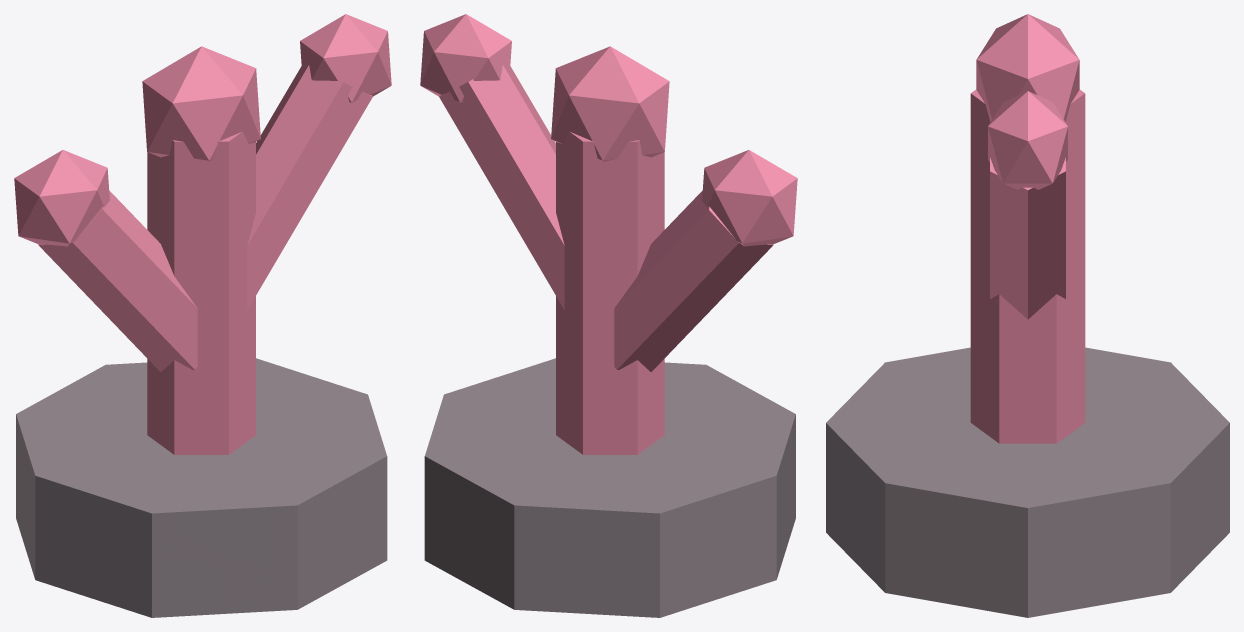
Rendered from Siren_NourishingCoral_Blockout.fbx.
3 views of the same model, side by side, from view 1: azimuth 30°, elevation 25°; view 2: azimuth 150°, elevation 25°; view 3: azimuth 270°, elevation 25° (orthographic). The views are drawn at different scales.
Parts seen in each view (by area): view 1: Siren_NourishingCoral; view 2: Siren_NourishingCoral; view 3: Siren_NourishingCoral.
Boxes of the visible parts, x1,y1,x2,y2 form: Siren_NourishingCoral: (14,14,391,617); Siren_NourishingCoral: (420,14,797,617); Siren_NourishingCoral: (826,14,1229,617).
Size of the model in its own units: 0.6665 by 0.85 by 0.6.
